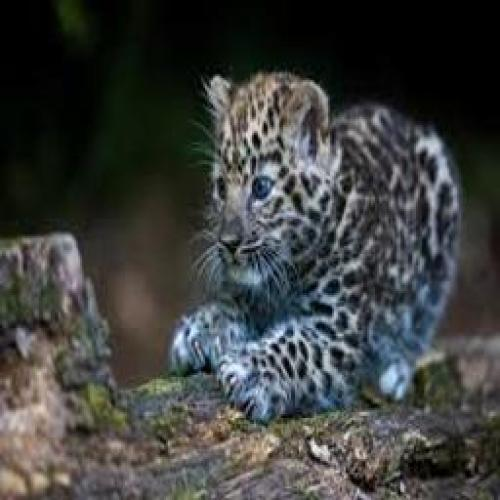amur_leopard-endangered: (167, 68, 460, 425)
